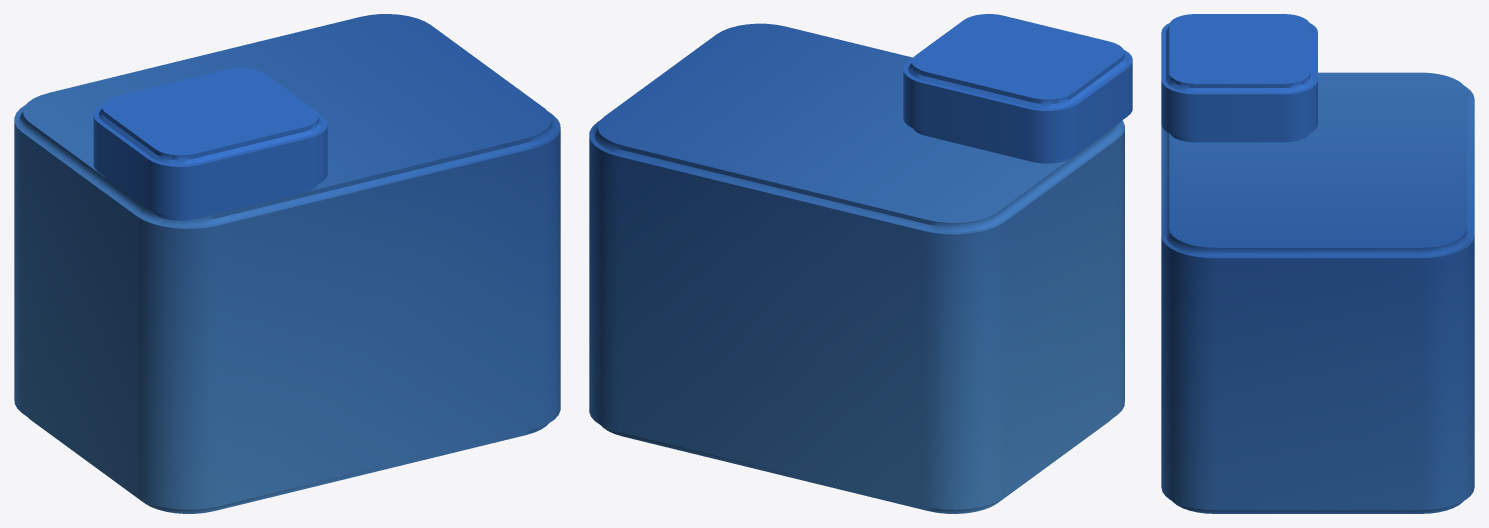
The model's file is icon_folder.glb.
3 views of the same model, side by side, from view 1: azimuth 30°, elevation 25°; view 2: azimuth 150°, elevation 25°; view 3: azimuth 270°, elevation 25° (orthographic). The views are drawn at different scales.
Parts seen in each view (by area): view 1: Folder_Body, Folder_Tab; view 2: Folder_Body, Folder_Tab; view 3: Folder_Body, Folder_Tab.
Part boxes in pixels (box(x1,y1,x2,y2)): Folder_Body: box(14, 14, 560, 513); Folder_Tab: box(93, 68, 327, 220); Folder_Body: box(589, 23, 1124, 513); Folder_Tab: box(903, 14, 1132, 163); Folder_Body: box(1161, 72, 1474, 513); Folder_Tab: box(1161, 14, 1317, 142).
Size of the model in its own units: 4.4 by 3.66 by 3.2.
